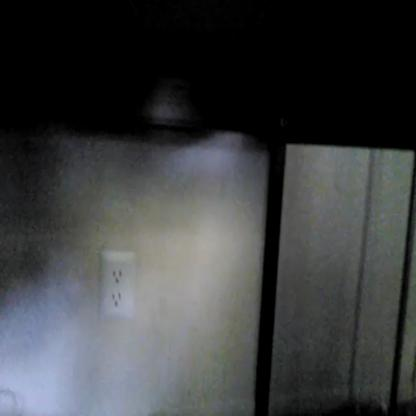OUTLET: (100, 251, 136, 317)
